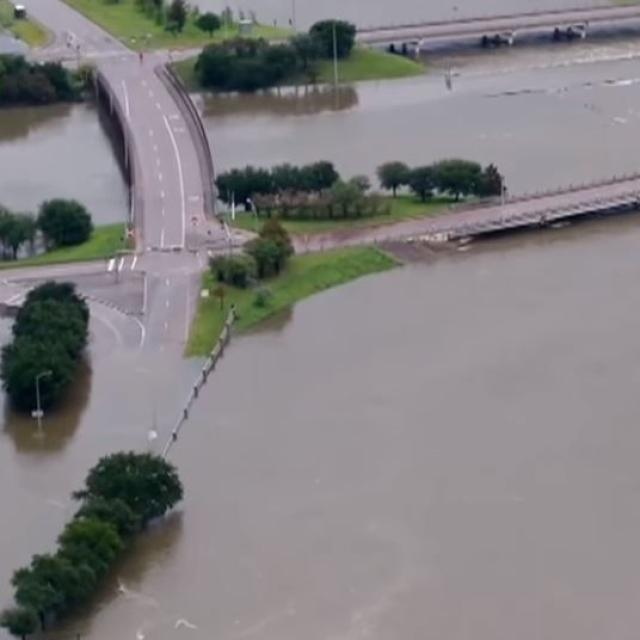flooded_areas: (2, 304, 639, 639)
